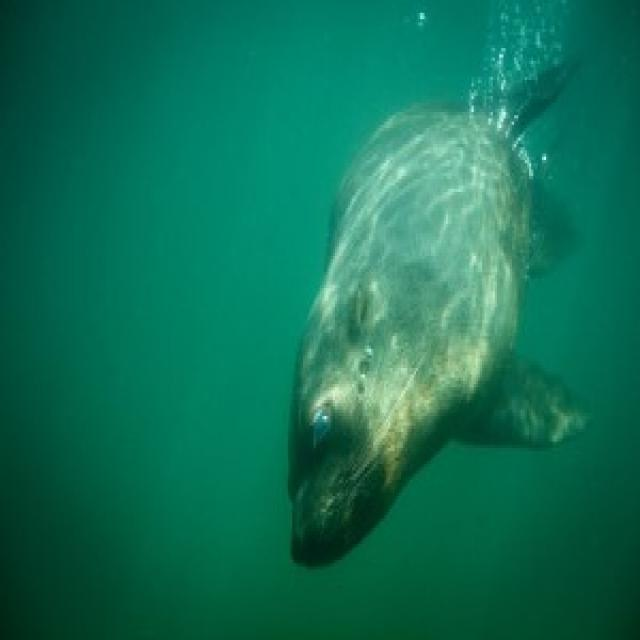Seal: (284, 43, 613, 572)
